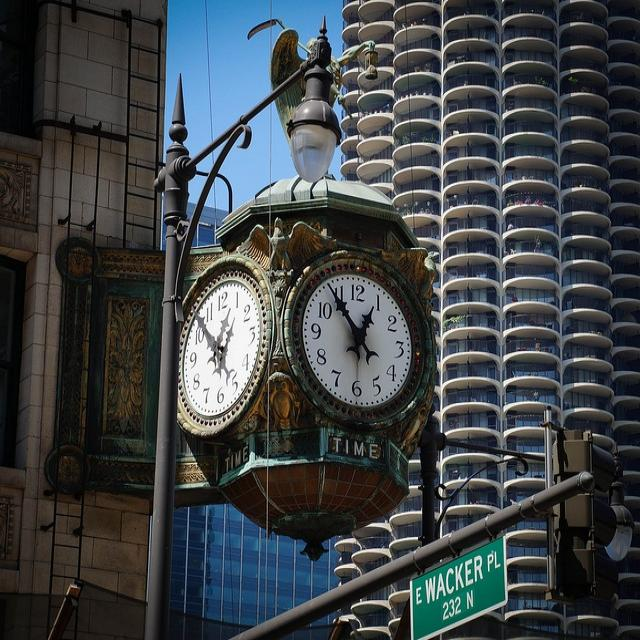pole: (138, 75, 194, 637)
